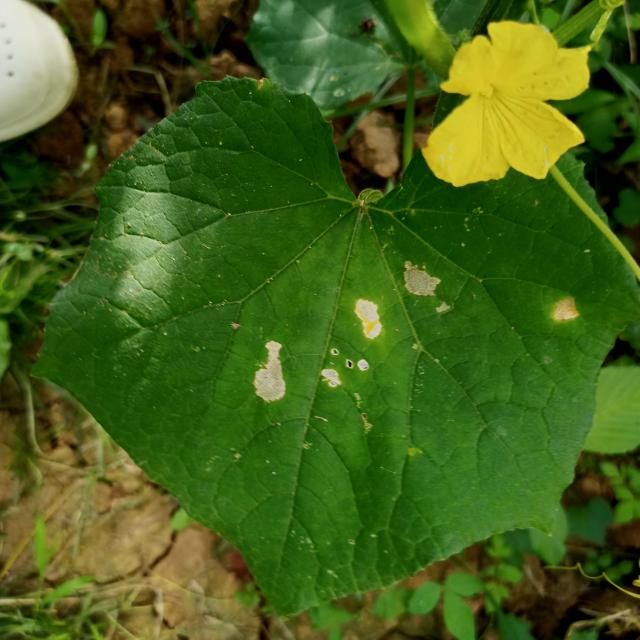disease_cucumber: (251, 260, 451, 407), (551, 296, 581, 324)
